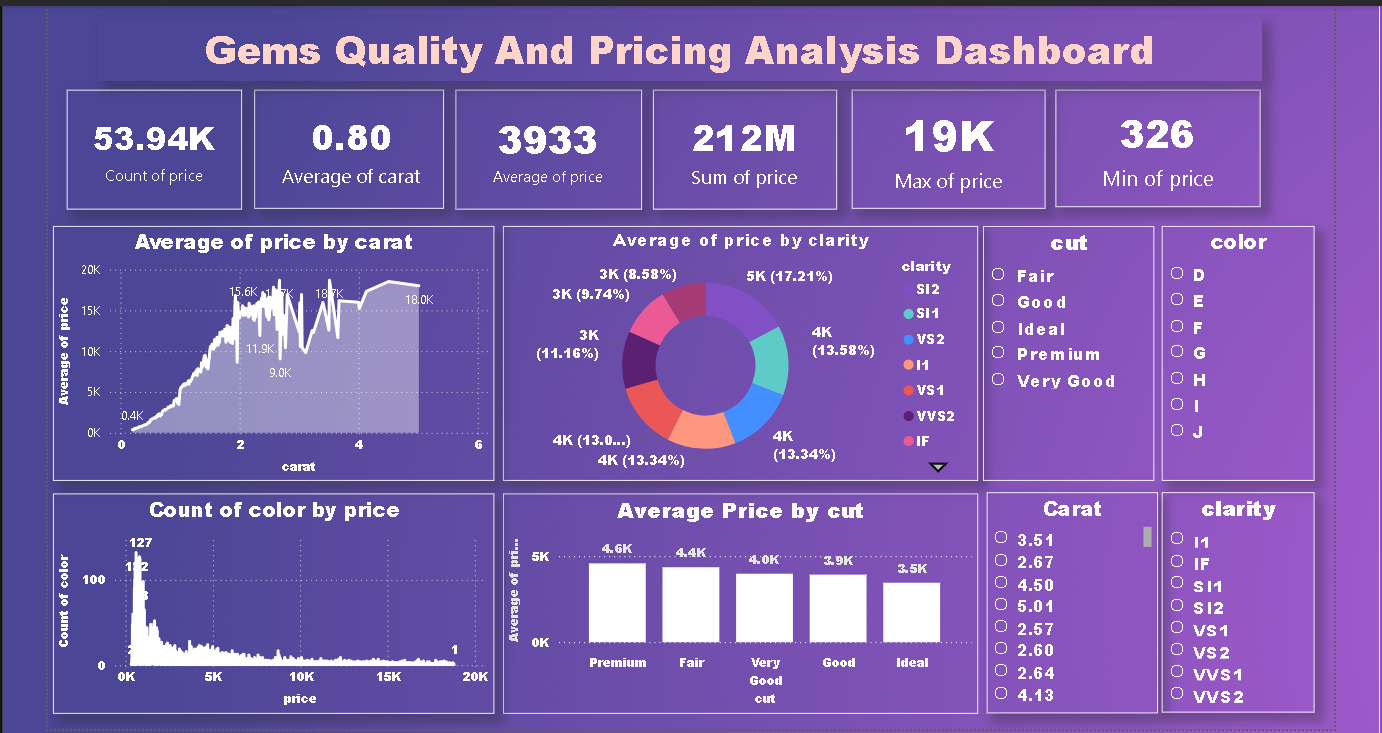

What the dashboard file says about the page in this screenshot:
{"tool":"powerbi","page":{"name":"Page 1","canvas":[1280,720],"ordinal":0},"visuals":[{"type":"card","fields":{"Values":["Avg(diamonds.price)"]},"box":[405.5,83.3,185.3,119.4],"z":0},{"type":"card","fields":{"Values":["Avg(diamonds.carat)"]},"box":[205.3,83.3,189.1,118.2],"z":1000},{"type":"clusteredColumnChart","title":"Average Price by cut","fields":{"Category":["diamonds.cut"],"Y":["Avg(diamonds.price)"]},"box":[452.8,485.1,472.7,218.9],"z":2000},{"type":"card","title":"Total Price","fields":{"Values":["Sum(diamonds.price)"]},"box":[602.1,83.3,182.9,119.4],"z":3000},{"type":"card","fields":{"Values":["Max(diamonds.price)"]},"box":[799.9,83.3,192.8,118.2],"z":4000},{"type":"card","fields":{"Values":["Min(diamonds.price)"]},"box":[1002.6,83.3,204,116.9],"z":5000},{"type":"donutChart","fields":{"Y":["Avg(diamonds.price)"],"Category":["diamonds.clarity"]},"box":[452.8,218.9,472.7,253.8],"z":6000},{"type":"areaChart","fields":{"Y":["Avg(diamonds.price)"],"Category":["diamonds.carat"]},"box":[5,218.9,439.1,253.8],"z":7000},{"type":"areaChart","fields":{"Y":["CountNonNull(diamonds.color)"],"Category":["diamonds.price"]},"box":[5,485.1,439.1,218.9],"z":8000},{"type":"listSlicer","fields":{"Values":["diamonds.cut"]},"box":[930.5,218.9,170.4,253.8],"z":9000},{"type":"listSlicer","title":" Carat","fields":{"Values":["diamonds.carat"]},"box":[934.2,483.9,170.4,220.2],"z":10000},{"type":"textbox","box":[49.8,12.4,1158.1,62.2],"z":11000},{"type":"listSlicer","fields":{"Values":["diamonds.color"]},"box":[1108.4,218.9,151.8,253.8],"z":12000},{"type":"listSlicer","fields":{"Values":["diamonds.clarity"]},"box":[1108.4,483.9,151.8,218.9],"z":13000},{"type":"card","fields":{"Values":["CountNonNull(diamonds.price)"]},"box":[18.7,83.3,174.2,119.4],"z":14000}]}

Visuals, with their boxes in screenshot pixels (x1, y1, x2, y2):
card - Avg(diamonds.price): [455, 87, 641, 207]
card - Avg(diamonds.carat): [253, 87, 443, 206]
"Average Price by cut" clusteredColumnChart: [502, 491, 977, 712]
"Total Price" card: [652, 87, 836, 207]
card - Max(diamonds.price): [851, 87, 1045, 206]
card - Min(diamonds.price): [1055, 87, 1260, 205]
donutChart - Avg(diamonds.price) x diamonds.clarity: [502, 224, 977, 479]
areaChart - Avg(diamonds.price) x diamonds.carat: [52, 224, 493, 479]
areaChart - CountNonNull(diamonds.color) x diamonds.price: [52, 491, 493, 712]
listSlicer - diamonds.cut: [983, 224, 1154, 479]
" Carat" listSlicer: [986, 490, 1158, 712]
textbox: [97, 16, 1261, 79]
listSlicer - diamonds.color: [1161, 224, 1314, 479]
listSlicer - diamonds.clarity: [1161, 490, 1314, 710]
card - CountNonNull(diamonds.price): [66, 87, 241, 207]
